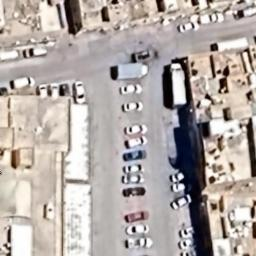SUV: (7, 76, 40, 90), (122, 208, 151, 222), (124, 133, 149, 149), (22, 45, 50, 59)
pickup: (195, 9, 228, 27), (126, 237, 158, 251)
sedan: (125, 220, 155, 238), (72, 80, 92, 106), (118, 82, 146, 98), (120, 170, 148, 186), (169, 193, 196, 209), (178, 224, 204, 240), (121, 148, 150, 162), (121, 122, 149, 136), (122, 97, 145, 114), (132, 47, 157, 62), (176, 19, 200, 34), (121, 161, 146, 174), (121, 186, 148, 198), (168, 170, 194, 182), (170, 180, 194, 192), (178, 237, 200, 249), (37, 84, 51, 100), (49, 80, 60, 100)
truck: (168, 61, 192, 111), (110, 62, 155, 83), (210, 36, 252, 52)
